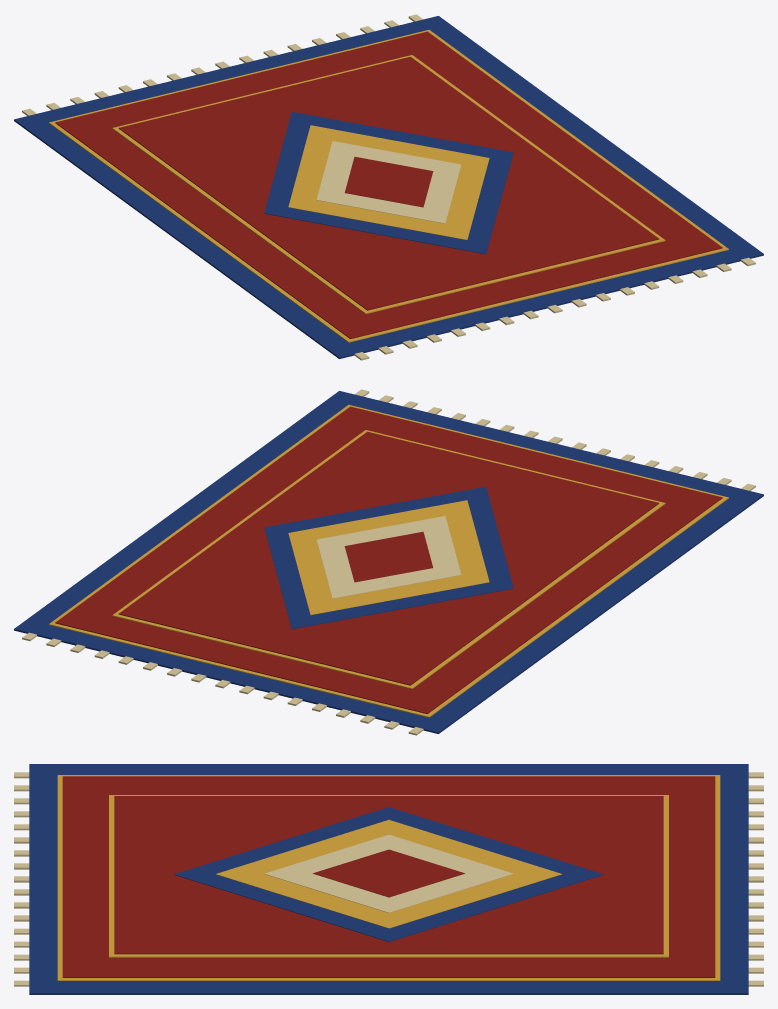
The model's file is rug_ornate.glb.
The picture shows the model from 3 angles, top to bottom: view 1: azimuth 30°, elevation 25°; view 2: azimuth 150°, elevation 25°; view 3: azimuth 270°, elevation 25°; orthographic projection. The views are drawn at different scales.
Visible parts, largest first — view 1: rug_ornate; view 2: rug_ornate; view 3: rug_ornate.
Boxes of the visible parts, bbox=[...] form: rug_ornate: bbox=[14, 14, 763, 360]; rug_ornate: bbox=[14, 389, 763, 735]; rug_ornate: bbox=[14, 764, 763, 994].
Bounding box in the file's own units: 2.11 × 0.0305 × 2.92.
